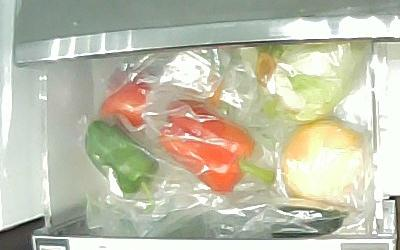cucumber_vinyl: (118, 205, 350, 239)
grapefruit_vinyl: (280, 119, 371, 209)
lettuce_vinyl: (254, 41, 362, 124)
paprika_vinyl: (159, 99, 275, 194), (83, 120, 158, 215), (98, 78, 152, 129)
